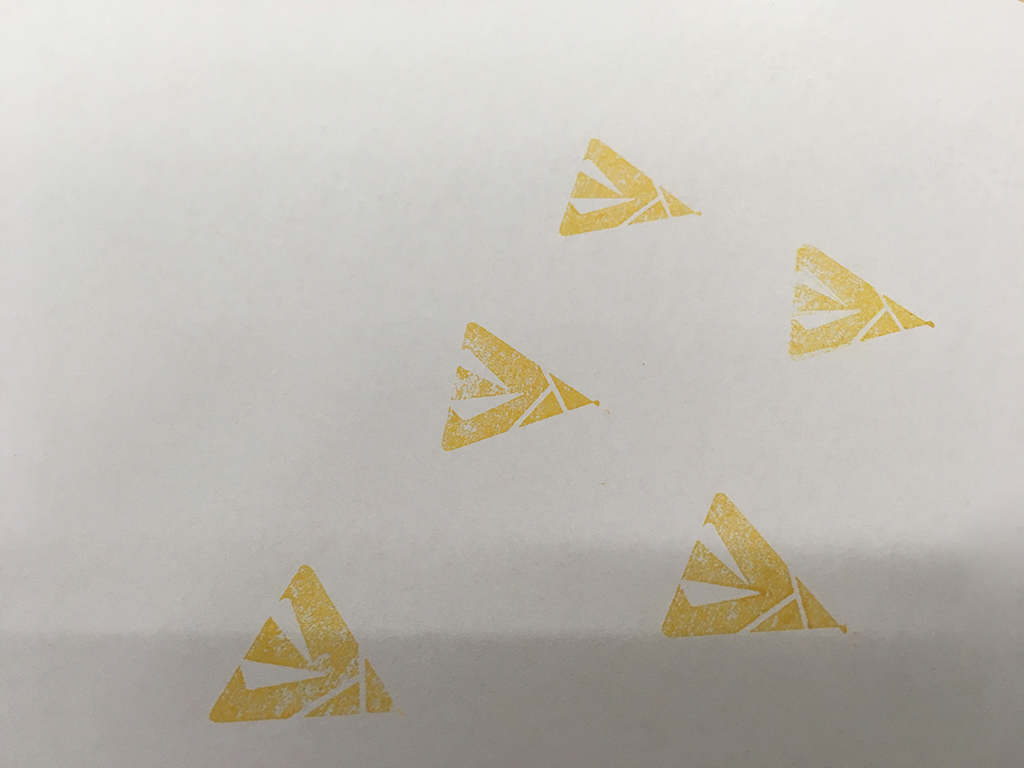tent: (200, 556, 408, 728), (650, 480, 856, 645), (433, 317, 606, 452), (781, 240, 941, 369), (552, 128, 708, 242)
